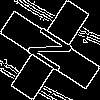N: (25, 25, 83, 80)
